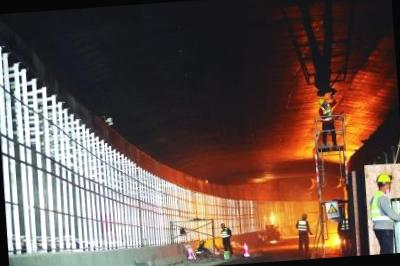person: (361, 170, 400, 252), (312, 94, 342, 150), (293, 212, 316, 258)
